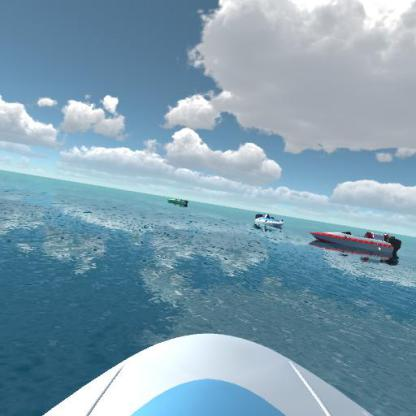usv0: (162, 190, 194, 211)
usv1: (248, 207, 287, 232)
usv3: (304, 220, 406, 266)
